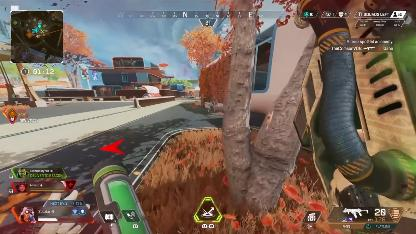Target: (208, 98, 218, 114)
